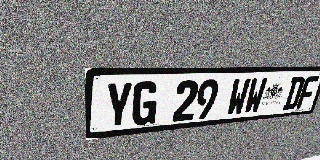2: (172, 80, 199, 122)
9: (194, 79, 220, 120)
D: (282, 76, 306, 110)
F: (296, 76, 319, 109)
G: (131, 81, 159, 126)
W: (225, 78, 251, 116), (243, 78, 268, 114)
Y: (105, 82, 133, 129)
